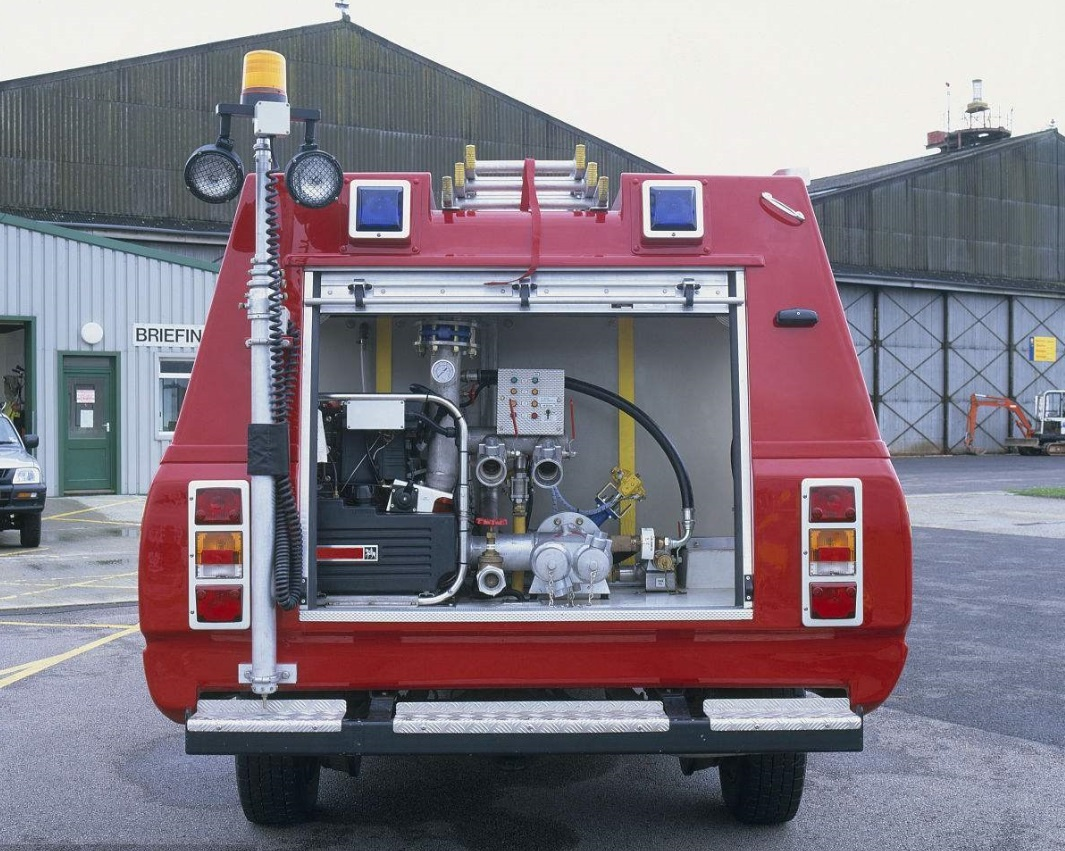fire engine: (126, 121, 919, 834)
